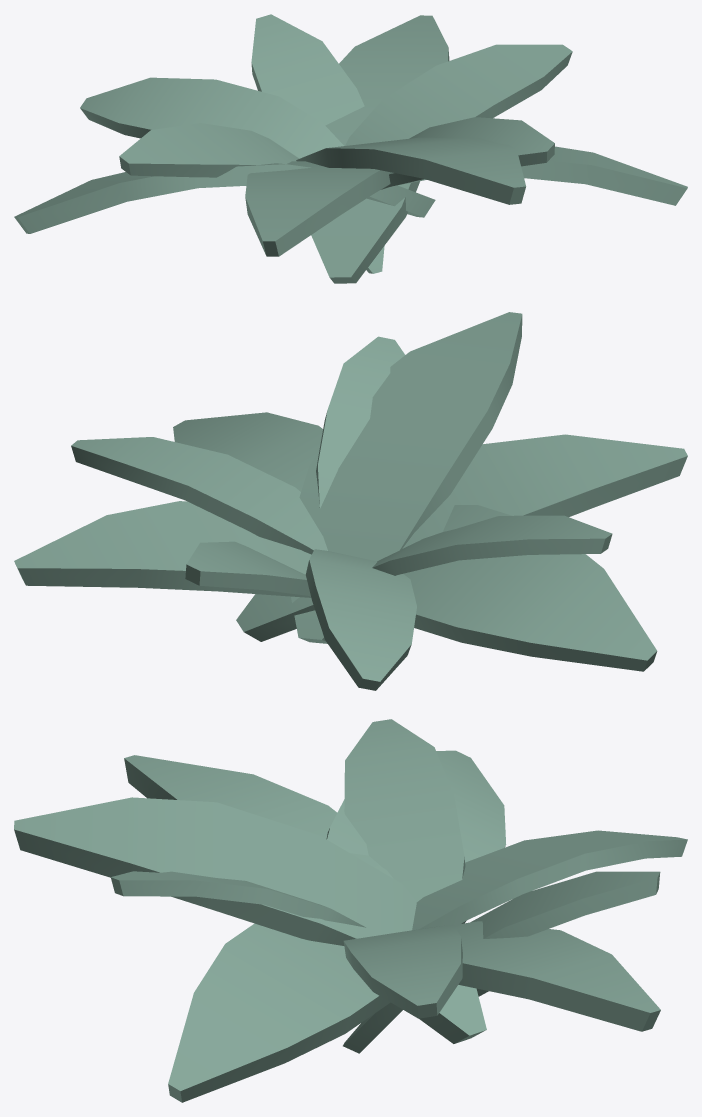
The model's file is SM_LeavesPatch.fbx.
3 views of the same model, one above another, from view 1: azimuth 30°, elevation 25°; view 2: azimuth 150°, elevation 25°; view 3: azimuth 270°, elevation 25° (orthographic). The views are drawn at different scales.
Parts seen in each view (by area): view 1: LeavesPatch; view 2: LeavesPatch; view 3: LeavesPatch.
Boxes of the visible parts, left/top/right/bottom form: LeavesPatch: left=14, top=14, right=687, bottom=283; LeavesPatch: left=14, top=312, right=687, bottom=690; LeavesPatch: left=14, top=719, right=687, bottom=1102.
Size of the model in its own units: 13.87 by 4.66 by 12.41.
